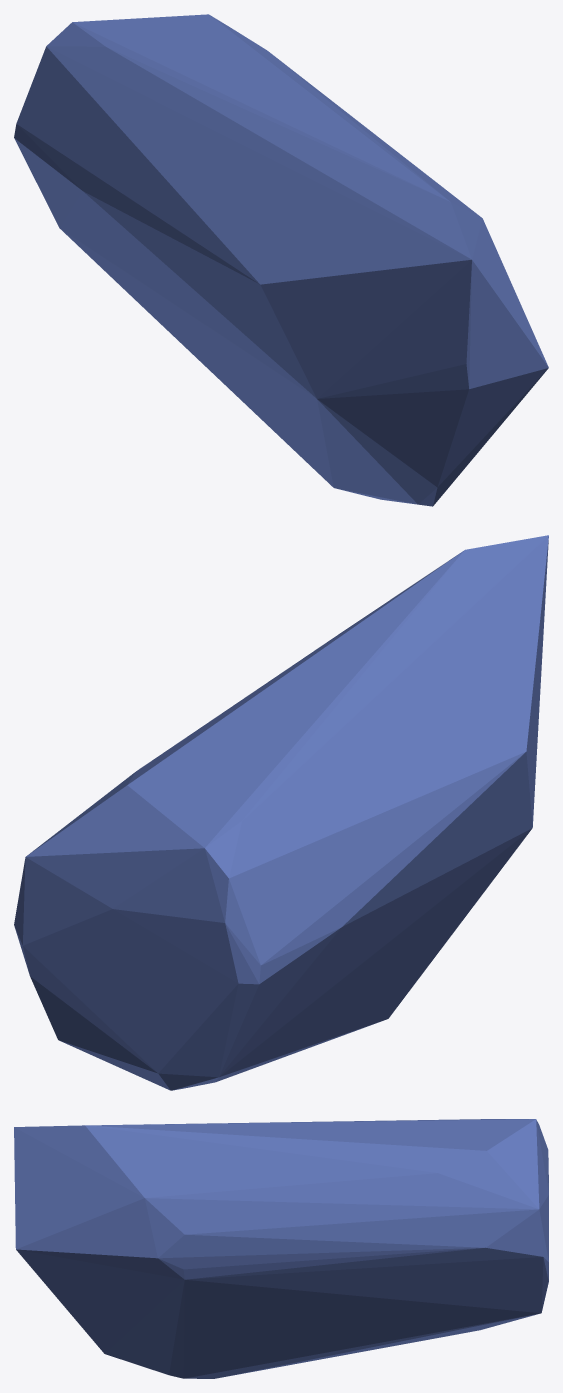
File: fireProtection_extinguisher_portable_b01.glb
3 views of the same model, one above another, from view 1: azimuth 30°, elevation 25°; view 2: azimuth 150°, elevation 25°; view 3: azimuth 270°, elevation 25° (orthographic). The views are drawn at different scales.
Parts seen in each view (by area): view 1: geometry_0; view 2: geometry_0; view 3: geometry_0.
Part boxes in pixels (x1,y1,x2,y2): geometry_0: (14,14,548,506); geometry_0: (14,535,548,1090); geometry_0: (14,1119,548,1378).
Size of the model in its own units: 0.1746 by 0.2528 by 0.4772.
